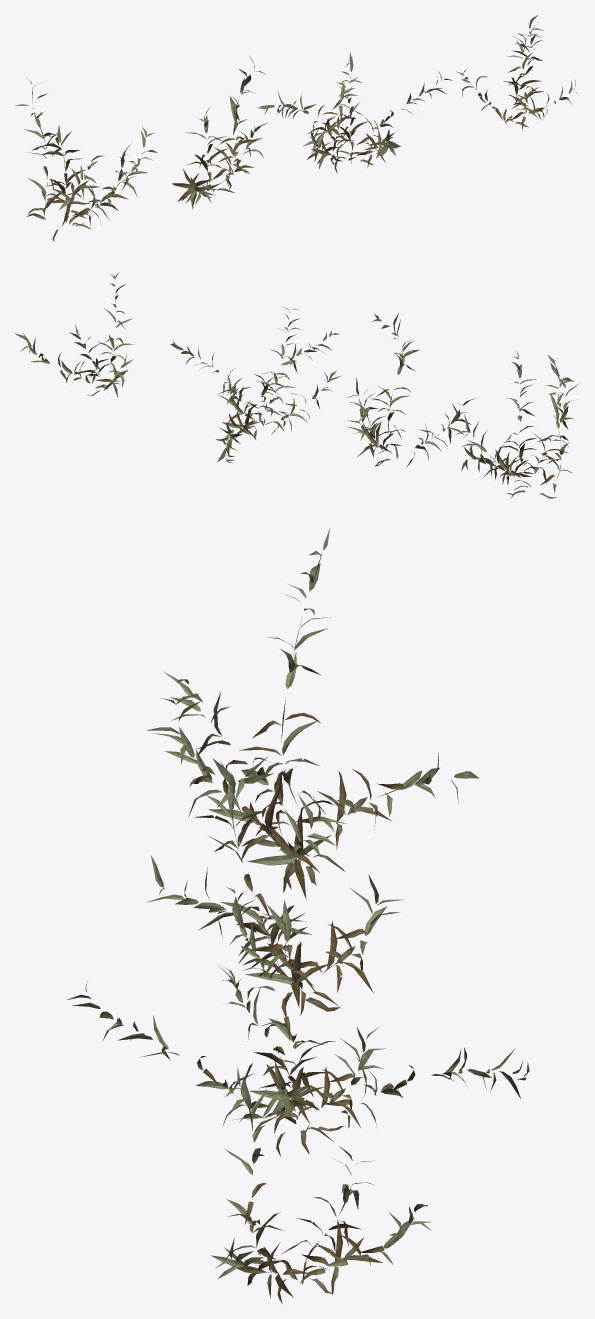
File: shrub.glb
The picture shows the model from 3 angles, top to bottom: view 1: azimuth 30°, elevation 25°; view 2: azimuth 150°, elevation 25°; view 3: azimuth 270°, elevation 25°; orthographic projection. The views are drawn at different scales.
Visible parts, largest first — view 1: shrub_02_a, shrub_02_c, shrub_02_b, shrub_02_d; view 2: shrub_02_a, shrub_02_c, shrub_02_b, shrub_02_d; view 3: shrub_02_a, shrub_02_c, shrub_02_b, shrub_02_d.
Part boxes in pixels (left/top/right/bottom): shrub_02_a: left=15, top=79, right=157, bottom=241; shrub_02_c: left=257, top=52, right=452, bottom=173; shrub_02_b: left=172, top=56, right=268, bottom=209; shrub_02_d: left=456, top=15, right=578, bottom=128; shrub_02_a: left=455, top=351, right=579, bottom=498; shrub_02_c: left=170, top=307, right=340, bottom=463; shrub_02_b: left=347, top=313, right=476, bottom=467; shrub_02_d: left=15, top=272, right=134, bottom=397; shrub_02_a: left=147, top=528, right=479, bottom=898; shrub_02_c: left=67, top=887, right=529, bottom=1156; shrub_02_b: left=146, top=757, right=404, bottom=1016; shrub_02_d: left=210, top=1067, right=431, bottom=1303.
Size of the model in its own units: 6.76 by 1.9 by 2.55.
Materials: 1 (1 with a texture image).
